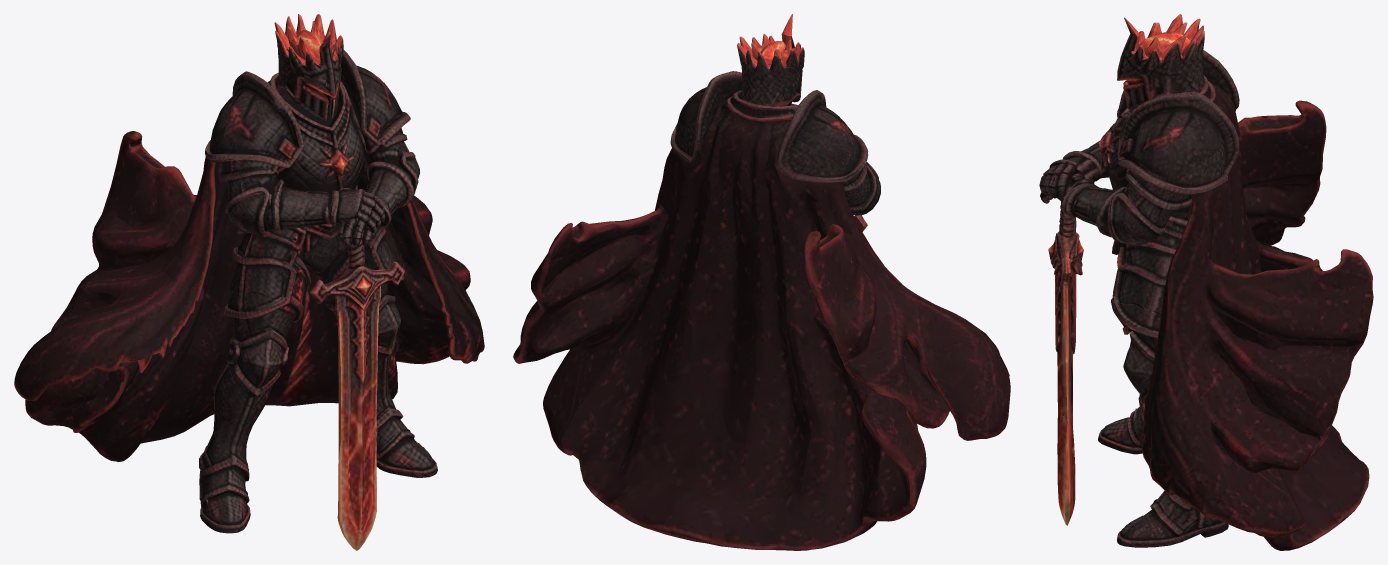
The model's file is warlord_dark.glb.
The picture shows the model from 3 angles, left to right: view 1: azimuth 30°, elevation 25°; view 2: azimuth 150°, elevation 25°; view 3: azimuth 270°, elevation 25°; orthographic projection. The views are drawn at different scales.
Bounding box in the file's own units: 1.87 × 1.9 × 1.13.
Materials: 1 (1 with a texture image).
